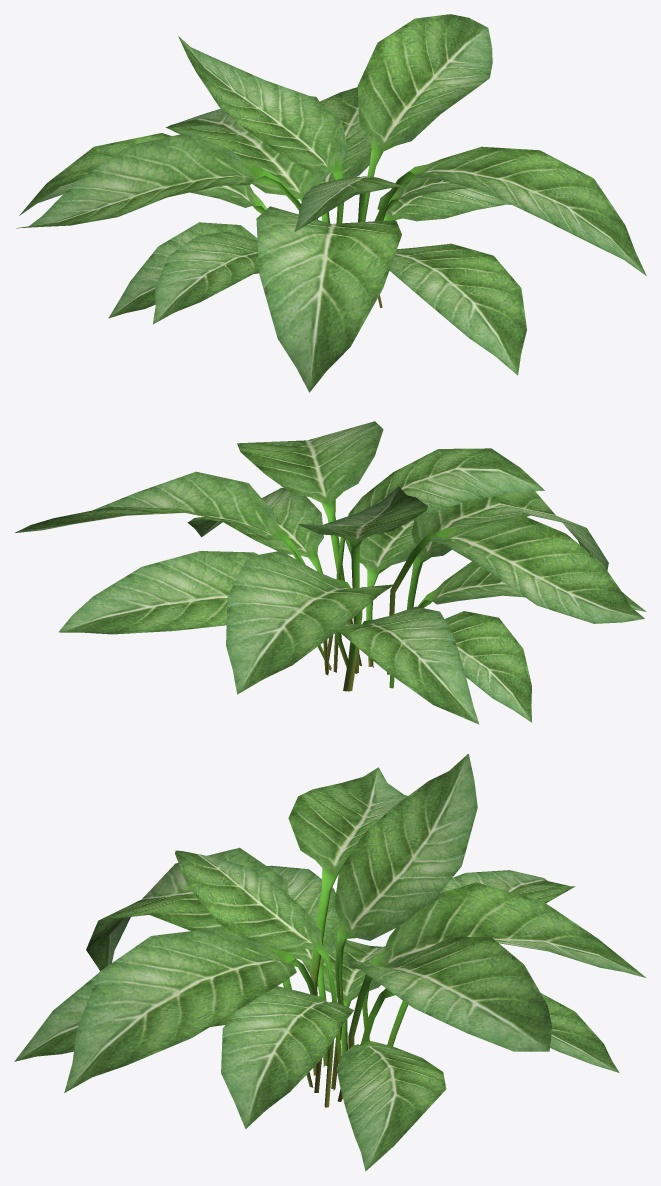
Rendered from D_Plant_006.fbx.
3 views of the same model, one above another, from view 1: azimuth 30°, elevation 25°; view 2: azimuth 150°, elevation 25°; view 3: azimuth 270°, elevation 25° (orthographic). The views are drawn at different scales.
Parts seen in each view (by area): view 1: D_Plant_006; view 2: D_Plant_006; view 3: D_Plant_006.
Boxes of the visible parts, bbox=[...] form: D_Plant_006: bbox=[16, 14, 646, 392]; D_Plant_006: bbox=[15, 421, 646, 724]; D_Plant_006: bbox=[14, 753, 645, 1171].
Size of the model in its own units: 1.03 by 0.46 by 0.9402.
1 material, 1 textured.
